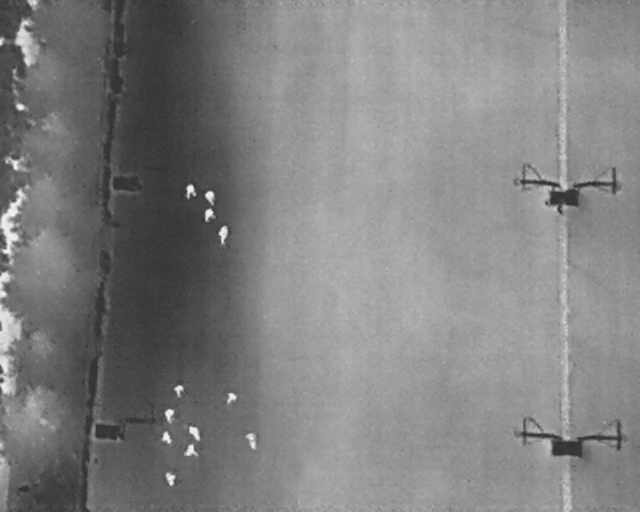Person: (216, 222, 230, 247), (187, 424, 203, 444), (183, 442, 200, 460), (245, 432, 259, 450), (203, 206, 216, 223), (163, 407, 176, 424), (160, 429, 172, 445), (185, 184, 196, 201), (204, 190, 216, 205), (173, 384, 185, 399), (164, 472, 176, 487), (226, 392, 238, 405)
